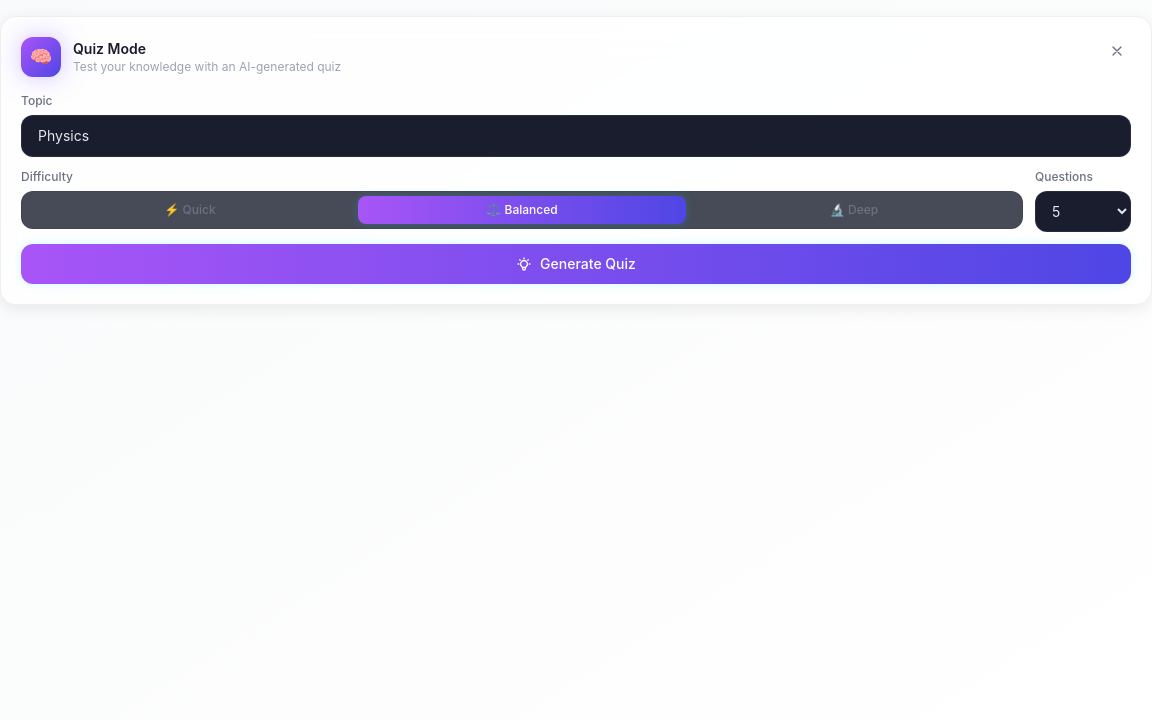
Test: QuizView › transitions to answering phase when generation completes
This screenshot has width=1152, height=720.
Click the button "Generate Quiz" at (576,264), box [21,244,1131,284]
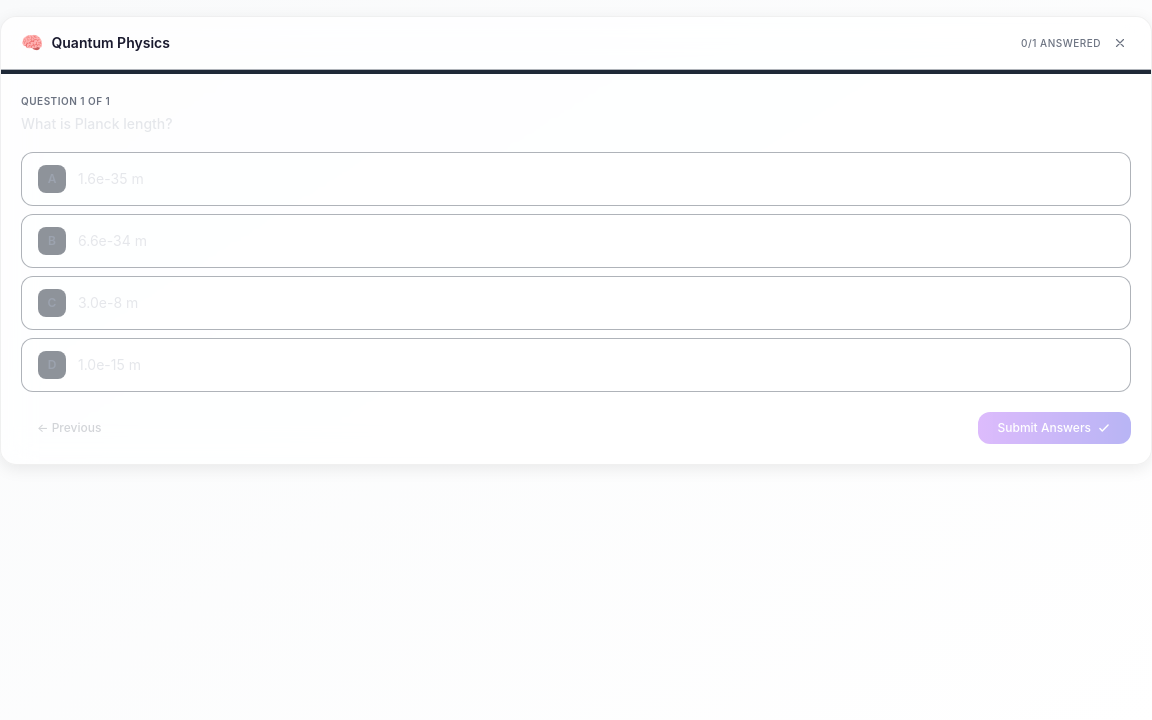
Result: the button "Submit Answers" is shown at [978,412,1131,444]
